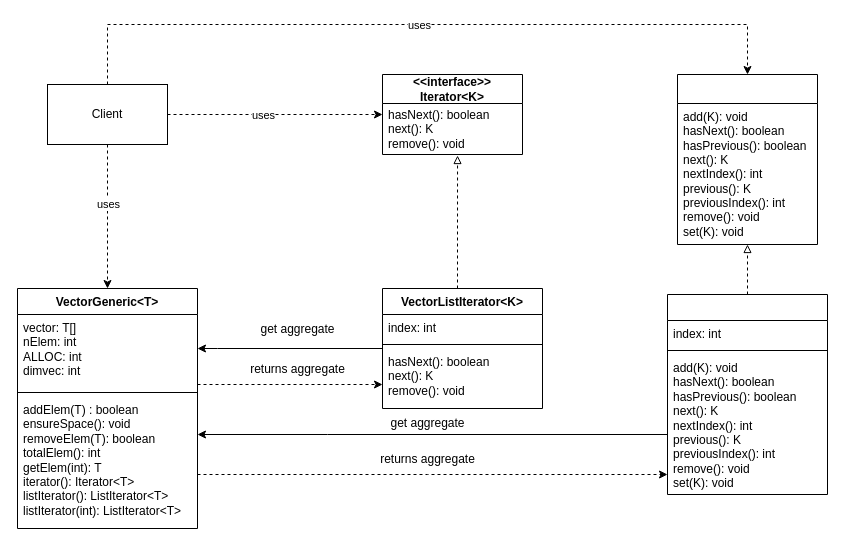
Image size: 845x549. Some labels were removed from this diagram. Each missing label, with the box of its shape:
<<interface>> ListIterator<K>: (676, 74, 818, 244)
VectotIterator<K>: (666, 294, 828, 494)
